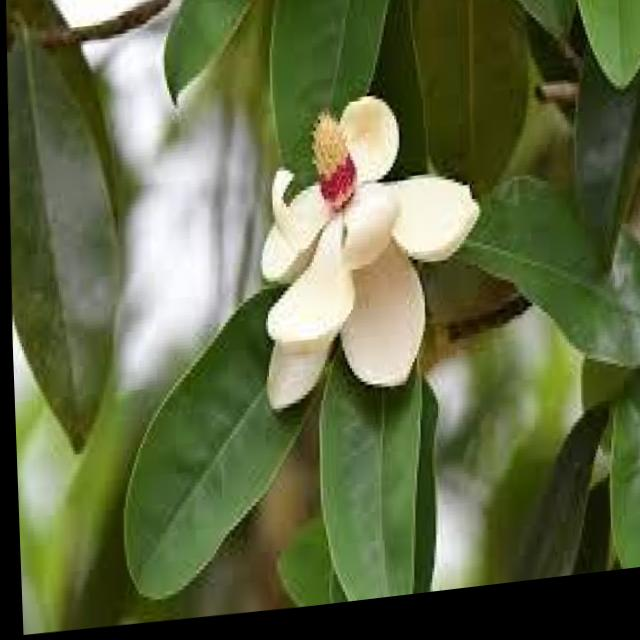Flower: (242, 81, 479, 429)
